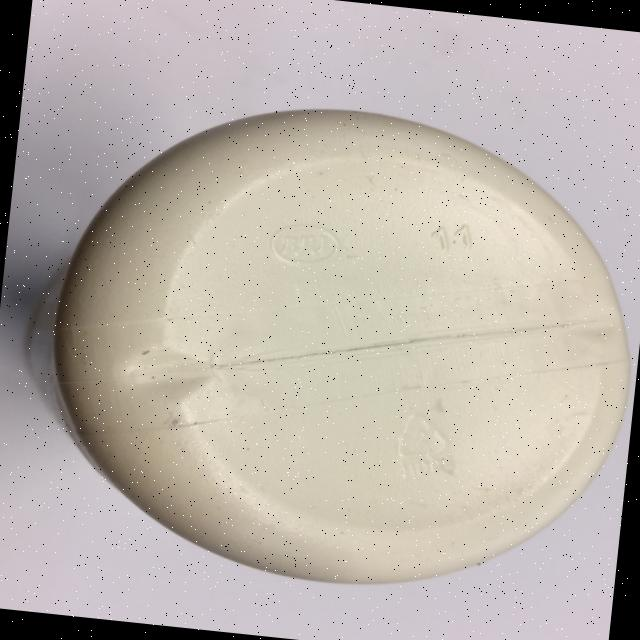plastic: (28, 79, 640, 611)
